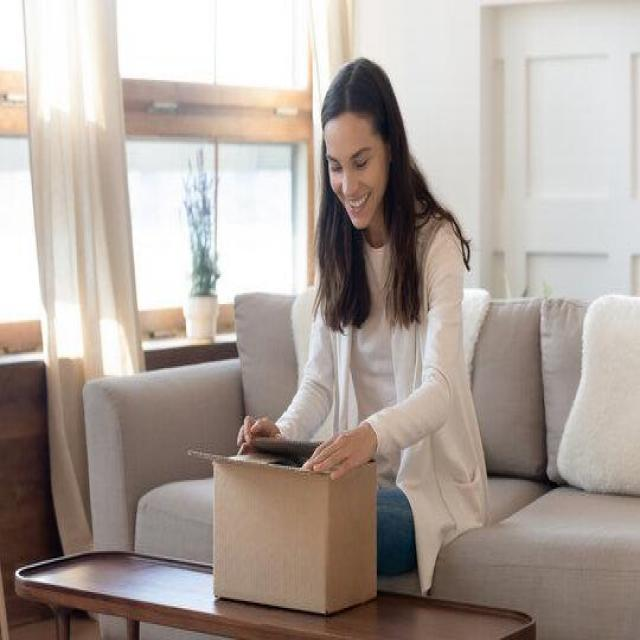box: (191, 428, 383, 620)
